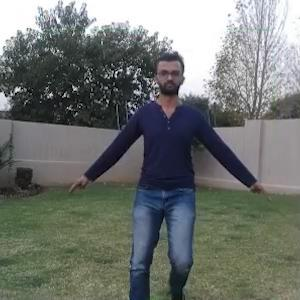land: (44, 34, 299, 298)
